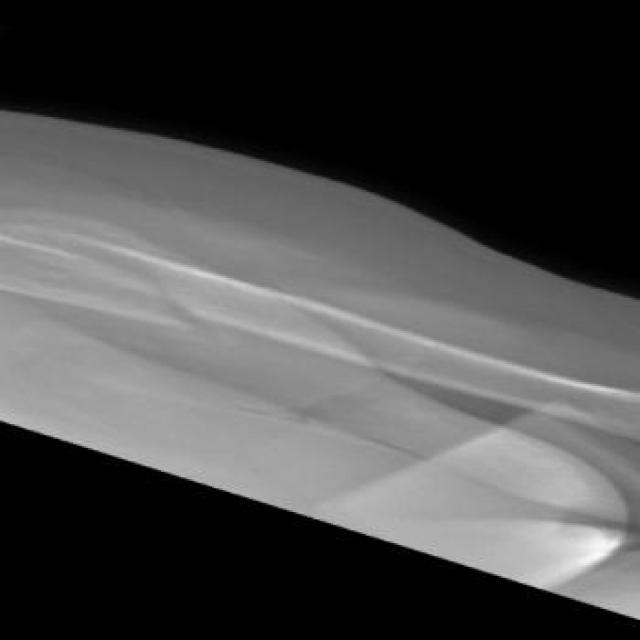Fracture: (110, 256, 201, 333)
